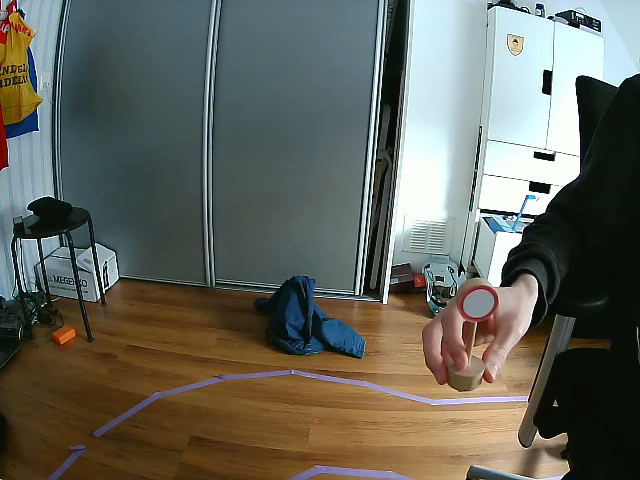wegdicht: (462, 286, 498, 322)
